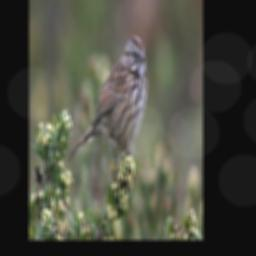Sparrow: (65, 34, 151, 184)
